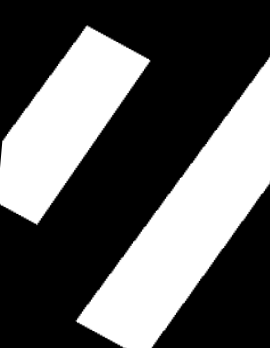parkingspot: (76, 57, 270, 348), (0, 25, 150, 225)
